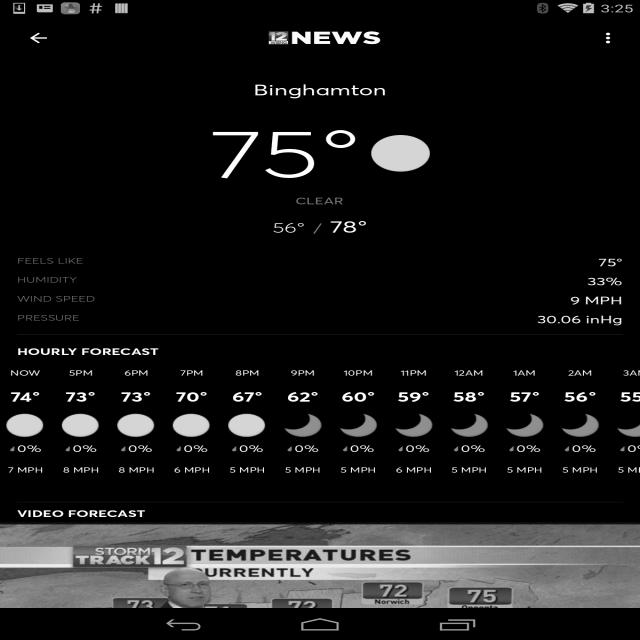ImageButton: (14, 21, 70, 51), (588, 24, 629, 52)
ImageView: (21, 542, 597, 606), (283, 411, 505, 439), (55, 413, 223, 437), (370, 126, 440, 176)
TextView: (516, 246, 634, 333), (193, 124, 334, 185), (242, 73, 398, 105), (13, 341, 173, 362), (289, 24, 386, 51), (264, 215, 371, 238), (20, 506, 163, 522)
